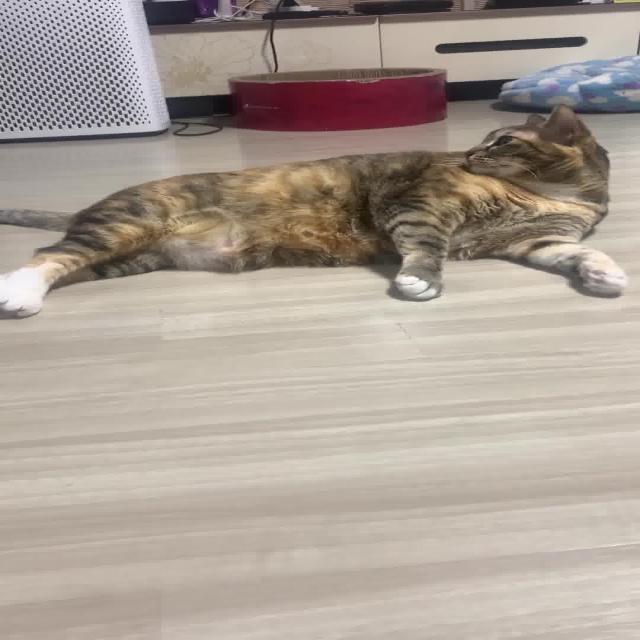cat: (0, 96, 640, 326)
